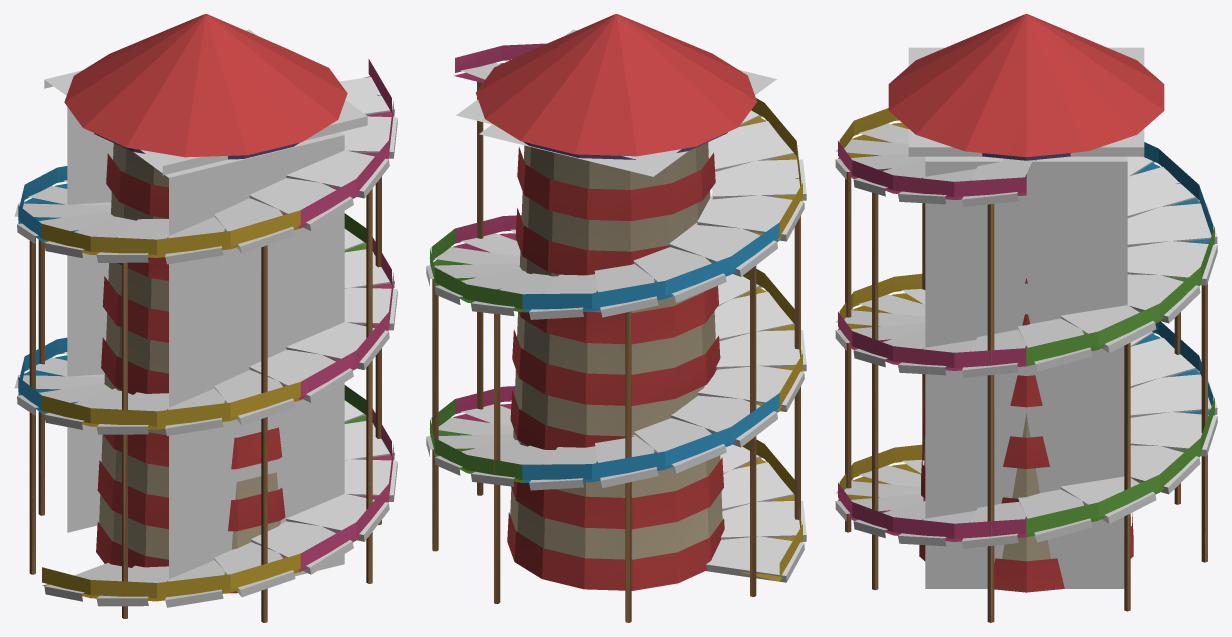
File: spiral_slide.glb
3 views of the same model, side by side, from view 1: azimuth 30°, elevation 25°; view 2: azimuth 150°, elevation 25°; view 3: azimuth 270°, elevation 25° (orthographic).
Parts seen in each view (by area): view 1: spiral_slide, COL_0, COL_4, COL_20, COL_41, COL_36, COL_3, COL_35, COL_19, COL_5, COL_21, COL_37 (+20 smaller); view 2: spiral_slide, COL_7, COL_8, COL_40, COL_6, COL_23, COL_9, COL_24, COL_39, COL_25, COL_22, COL_10 (+20 smaller); view 3: spiral_slide, COL_0, COL_12, COL_13, COL_41, COL_29, COL_28, COL_11, COL_27, COL_14, COL_30, COL_16 (+21 smaller).
Boxes of the visible parts, x1,y1,x2,y2 form: spiral_slide: (18,14,393,622); COL_0: (67,107,344,593); COL_4: (249,178,353,231); COL_20: (249,349,353,402); COL_41: (44,29,367,175); COL_36: (250,521,353,574); COL_3: (286,150,389,198); COL_35: (286,494,389,541); COL_19: (286,322,389,369); COL_5: (214,198,295,253); COL_21: (214,370,295,425); COL_37: (214,542,295,597); spiral_slide: (430,14,802,622); COL_7: (712,159,806,200); COL_8: (697,194,804,241); COL_40: (706,536,804,582); COL_6: (708,121,798,171); COL_23: (716,330,806,371); COL_9: (669,223,777,276); COL_24: (697,365,804,411); COL_39: (720,500,806,541); COL_25: (670,395,777,447); COL_22: (714,291,794,341); COL_10: (633,247,726,302); spiral_slide: (838,14,1214,622); COL_0: (925,156,1127,588); COL_12: (1127,203,1217,247); COL_13: (1127,241,1217,285); COL_41: (908,47,1144,156); COL_29: (1130,412,1217,456); COL_28: (1130,374,1217,417); COL_11: (1127,167,1198,218); COL_27: (1130,337,1198,387); COL_14: (1127,274,1200,323); COL_30: (1130,445,1200,494); COL_16: (1018,318,1092,371).
Bounding box in the file's own units: 11.37 × 17.44 × 11.37.
